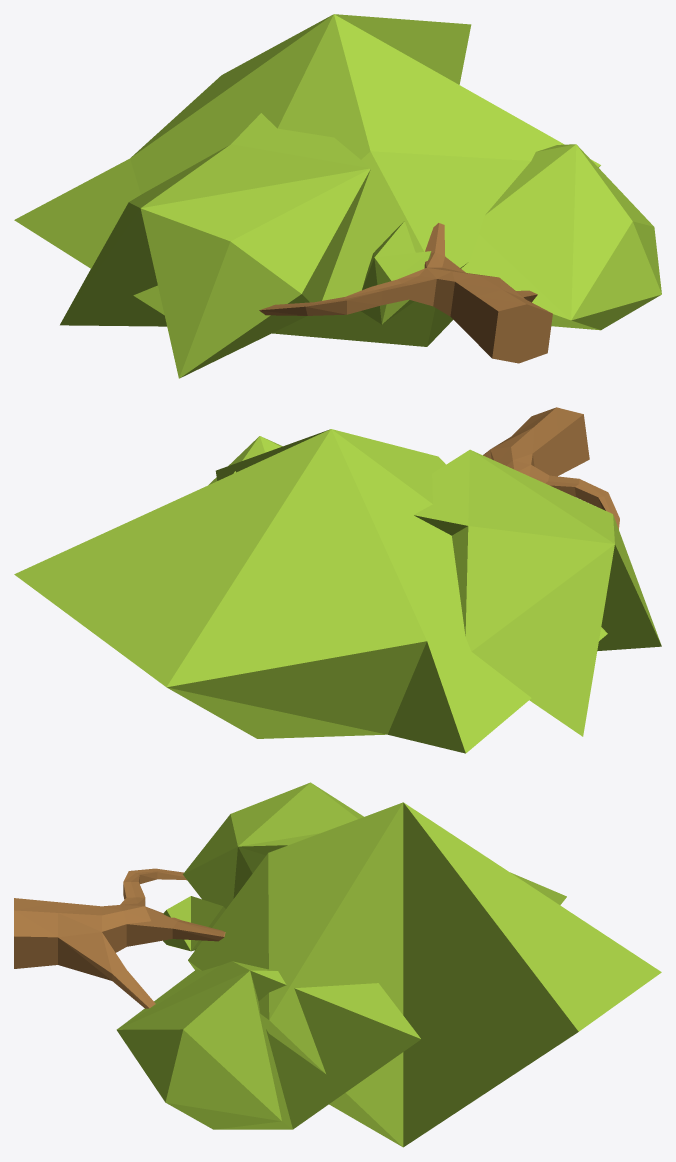
The model's file is tree1.dae.
3 renders of one model, top to bottom at view 1: azimuth 30°, elevation 25°; view 2: azimuth 150°, elevation 25°; view 3: azimuth 270°, elevation 25°, orthographic. The views are drawn at different scales.
Visible parts, largest first — view 1: Green, Brown; view 2: Green, Brown; view 3: Green, Brown.
Part boxes in pixels (left/top/right/bottom): Green: left=14, top=14, right=661, bottom=378; Brown: left=259, top=223, right=552, bottom=363; Green: left=14, top=429, right=661, bottom=753; Brown: left=483, top=407, right=619, bottom=529; Green: left=116, top=782, right=661, bottom=1147; Brown: left=14, top=868, right=225, bottom=1008.
Bounding box in the file's own units: 1.25 × 1.47 × 0.7788.
